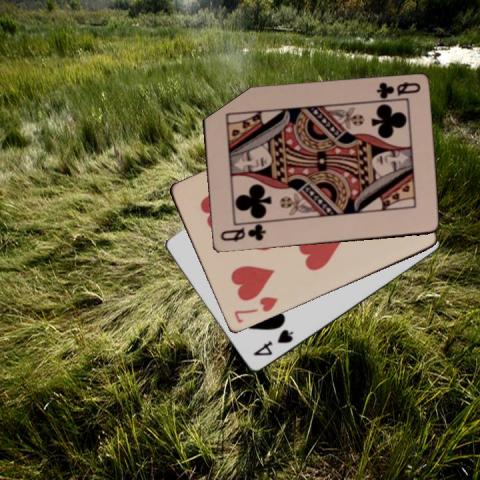4s: (249, 327, 295, 358)
7h: (231, 294, 279, 325)
Qc: (374, 79, 422, 101), (218, 223, 268, 243)
